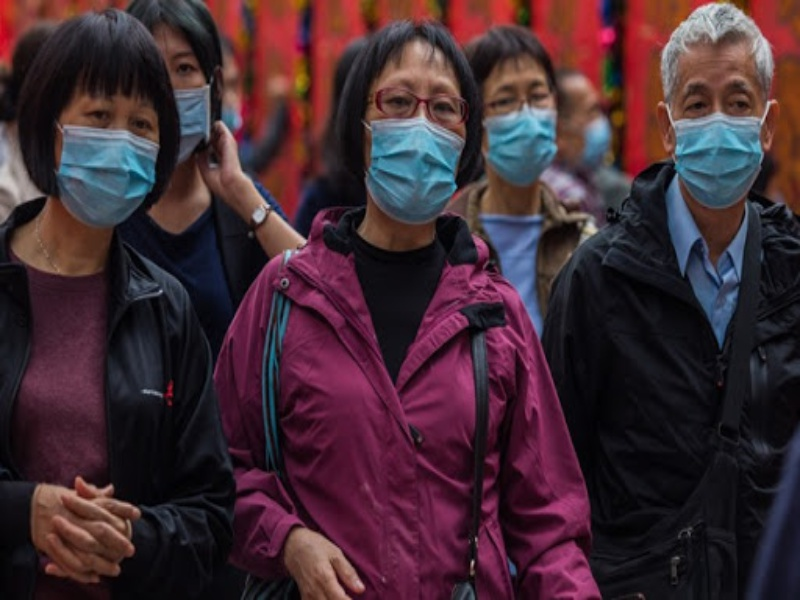ManaoArotava: (355, 30, 481, 242), (661, 24, 789, 228), (51, 69, 174, 245), (461, 26, 575, 209), (121, 10, 225, 188)
